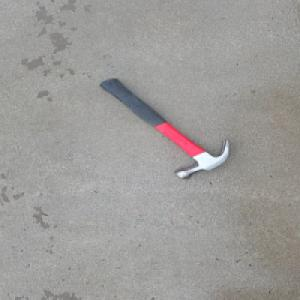Hammer: (98, 77, 232, 179)
